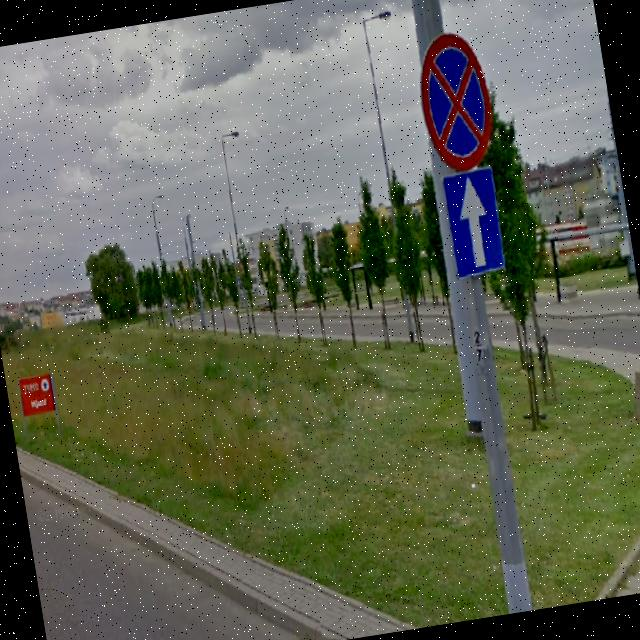Zakaz zatrzymywania sie: (411, 23, 499, 172)
